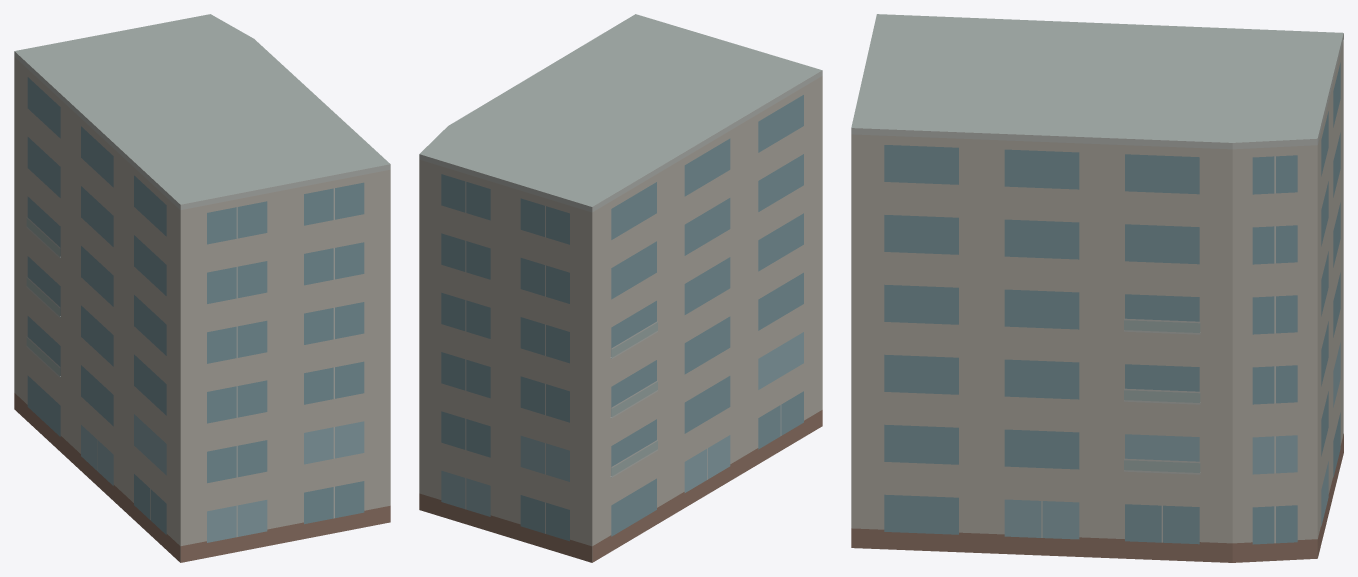
File: survey-upis-33016741.glb
3 renders of one model, left to right at view 1: azimuth 30°, elevation 25°; view 2: azimuth 150°, elevation 25°; view 3: azimuth 270°, elevation 25°, orthographic. The views are drawn at different scales.
Parts seen in each view (by area): view 1: survey-upis-33016741.tmp; view 2: survey-upis-33016741.tmp; view 3: survey-upis-33016741.tmp.
Boxes of the visible parts, bbox=[...] form: survey-upis-33016741.tmp: bbox=[14, 14, 390, 562]; survey-upis-33016741.tmp: bbox=[419, 14, 822, 562]; survey-upis-33016741.tmp: bbox=[851, 14, 1343, 562].
Bounding box in the file's own units: 10.54 × 16 × 17.02.
